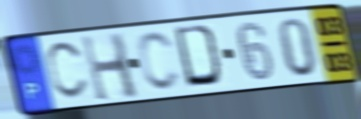0: (276, 16, 320, 79)
6: (234, 19, 277, 84)
C: (135, 29, 184, 94), (45, 39, 91, 102)
D: (171, 22, 226, 90)
H: (78, 31, 143, 104)
